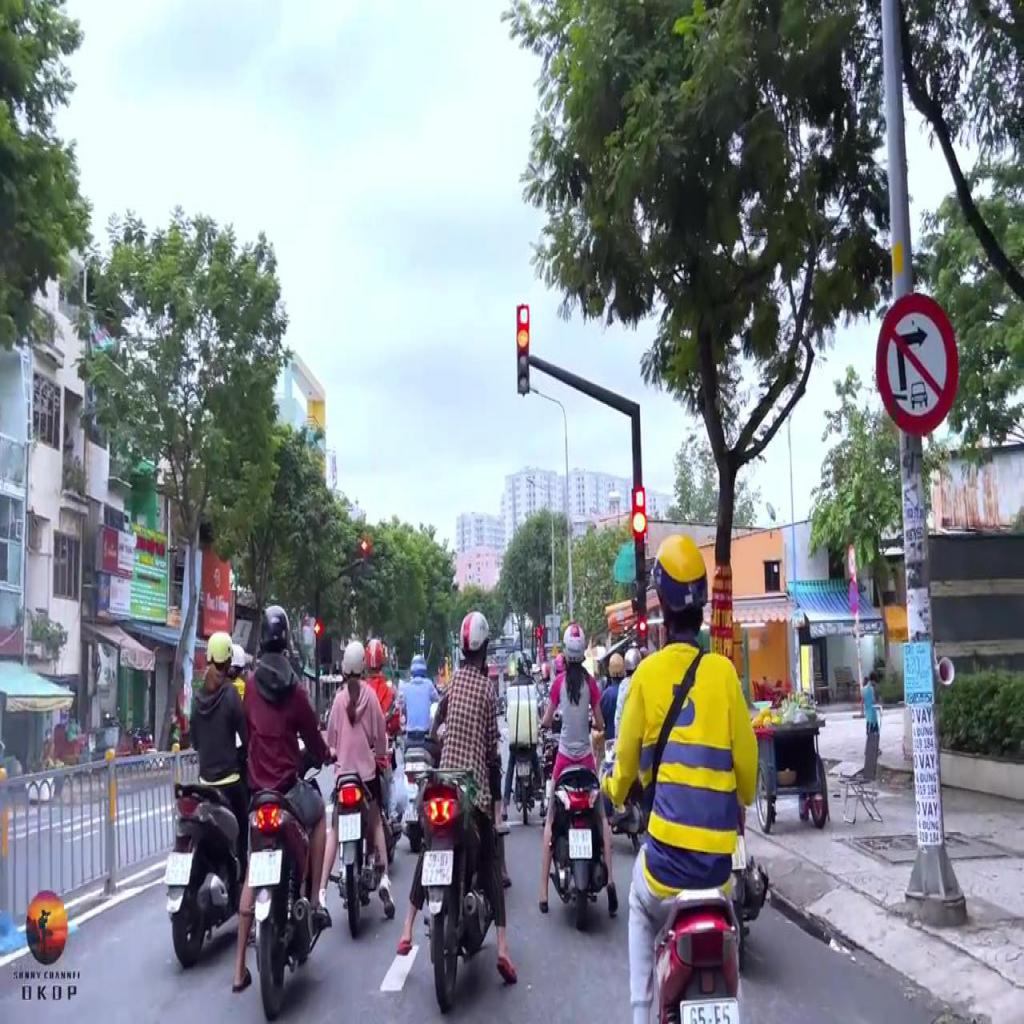cam_o_to_re_phai: (874, 286, 960, 438)
